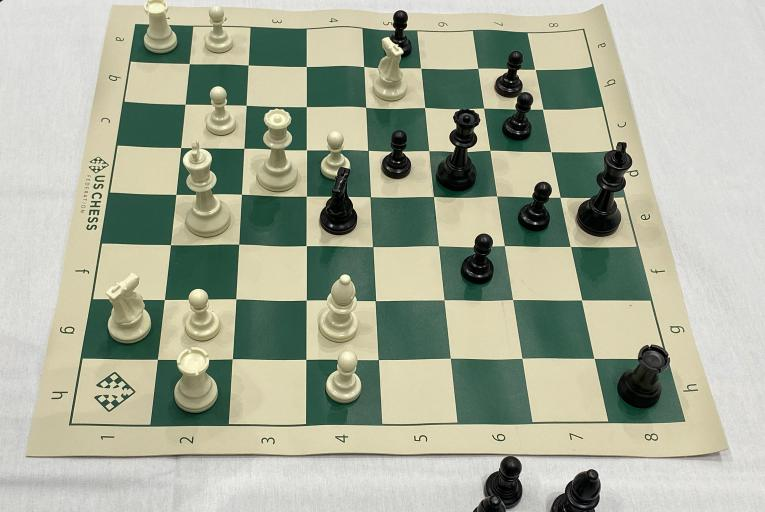black-king: (575, 136, 637, 242)
black-knight: (314, 168, 369, 241)
black-pawn: (455, 229, 500, 290), (515, 179, 556, 238), (500, 92, 542, 148), (376, 128, 419, 182), (378, 8, 419, 61), (488, 48, 528, 101)
black-queen: (432, 104, 491, 196)
black-rook: (611, 340, 675, 414)
white-bishop: (312, 269, 365, 347)
white-king: (176, 139, 236, 240)
white-knight: (100, 264, 157, 347)
white-pawn: (321, 347, 370, 408), (177, 287, 225, 342), (199, 85, 243, 139), (197, 4, 241, 57), (319, 130, 355, 182)
white-queen: (253, 105, 304, 195)
white-rook: (164, 345, 228, 417), (135, 1, 183, 59)
